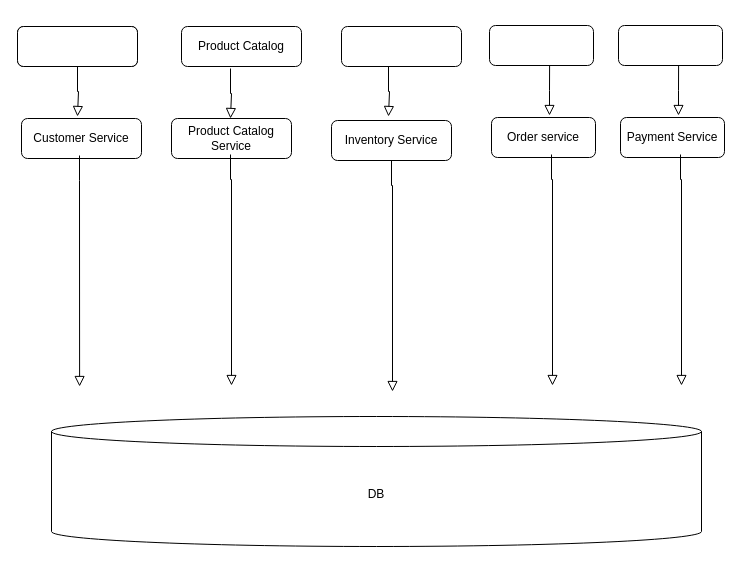
This 742x564 diagram has some shape labels left out. The centre of each missing label's shape, as x and y in pixels:
"Customer" belongs at pixel 77 46.
"Inventory" belongs at pixel 401 46.
"Order" belongs at pixel 541 45.
"Payment" belongs at pixel 670 45.
